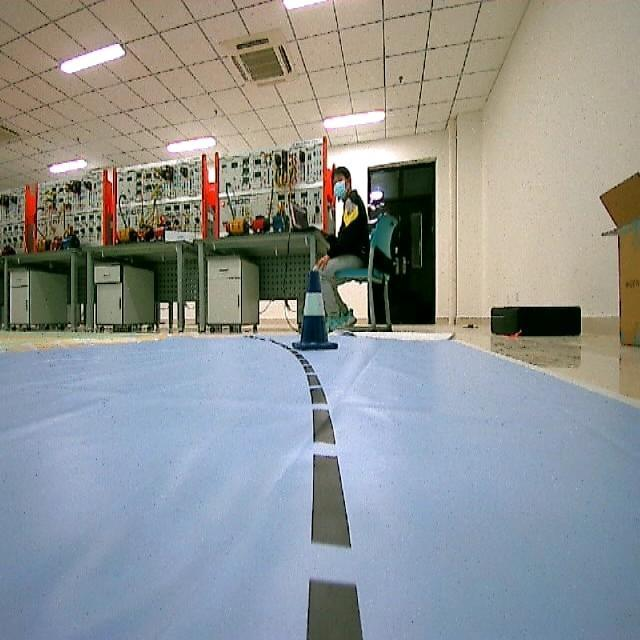obstacle: (298, 270, 340, 351)
